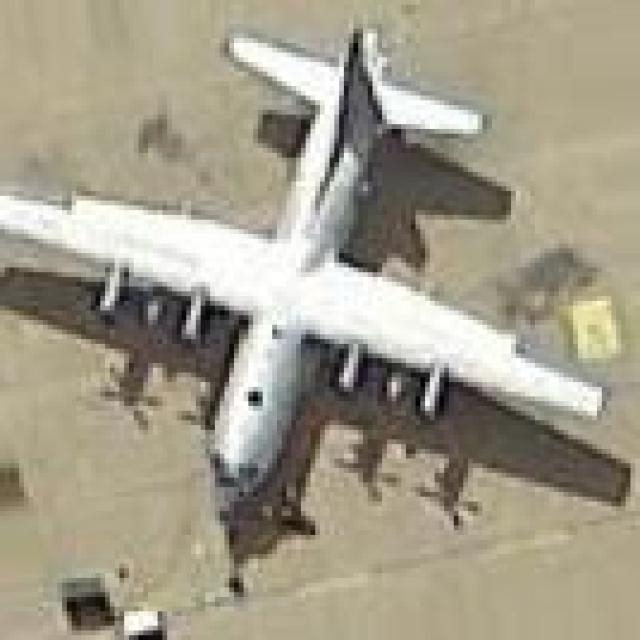C-130_TopDown: (0, 13, 634, 591)
